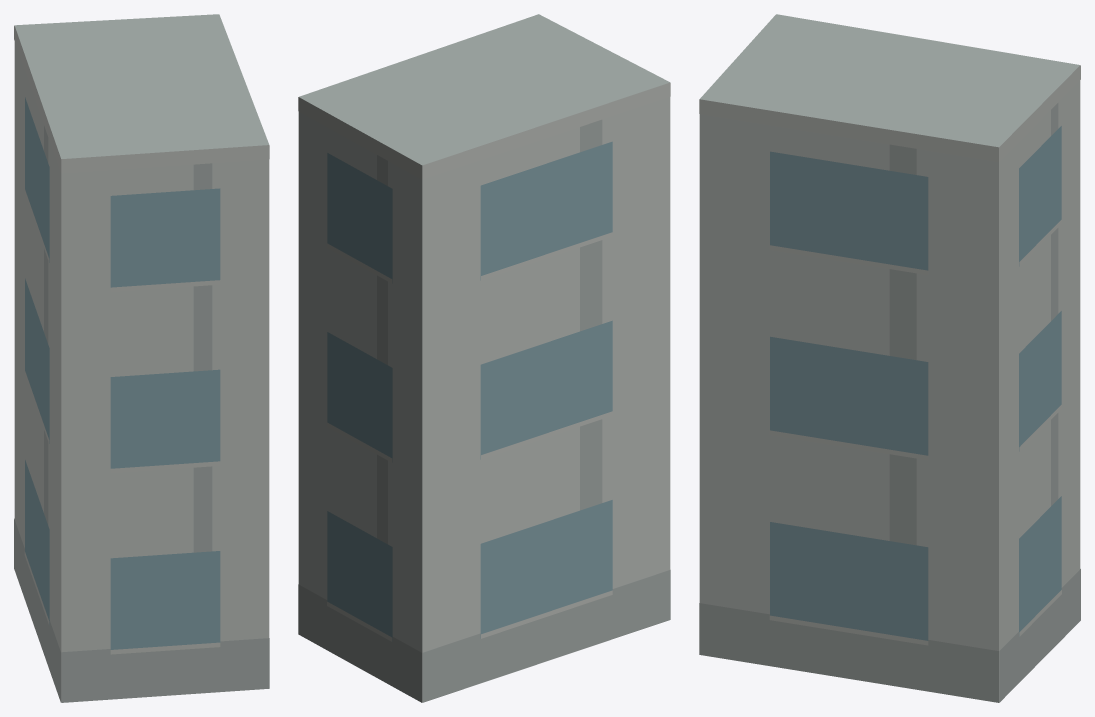
Rendered from survey-upis-32634302.glb.
3 renders of one model, left to right at view 1: azimuth 30°, elevation 25°; view 2: azimuth 150°, elevation 25°; view 3: azimuth 270°, elevation 25°, orthographic. The views are drawn at different scales.
Visible parts, largest first — view 1: survey-upis-32634302.tmp; view 2: survey-upis-32634302.tmp; view 3: survey-upis-32634302.tmp.
Part boxes in pixels (bbox=[...]): survey-upis-32634302.tmp: bbox=[14, 14, 269, 702]; survey-upis-32634302.tmp: bbox=[298, 14, 670, 702]; survey-upis-32634302.tmp: bbox=[699, 14, 1080, 702].
Bounding box in the file's own units: 4.72 × 9.15 × 5.7.
